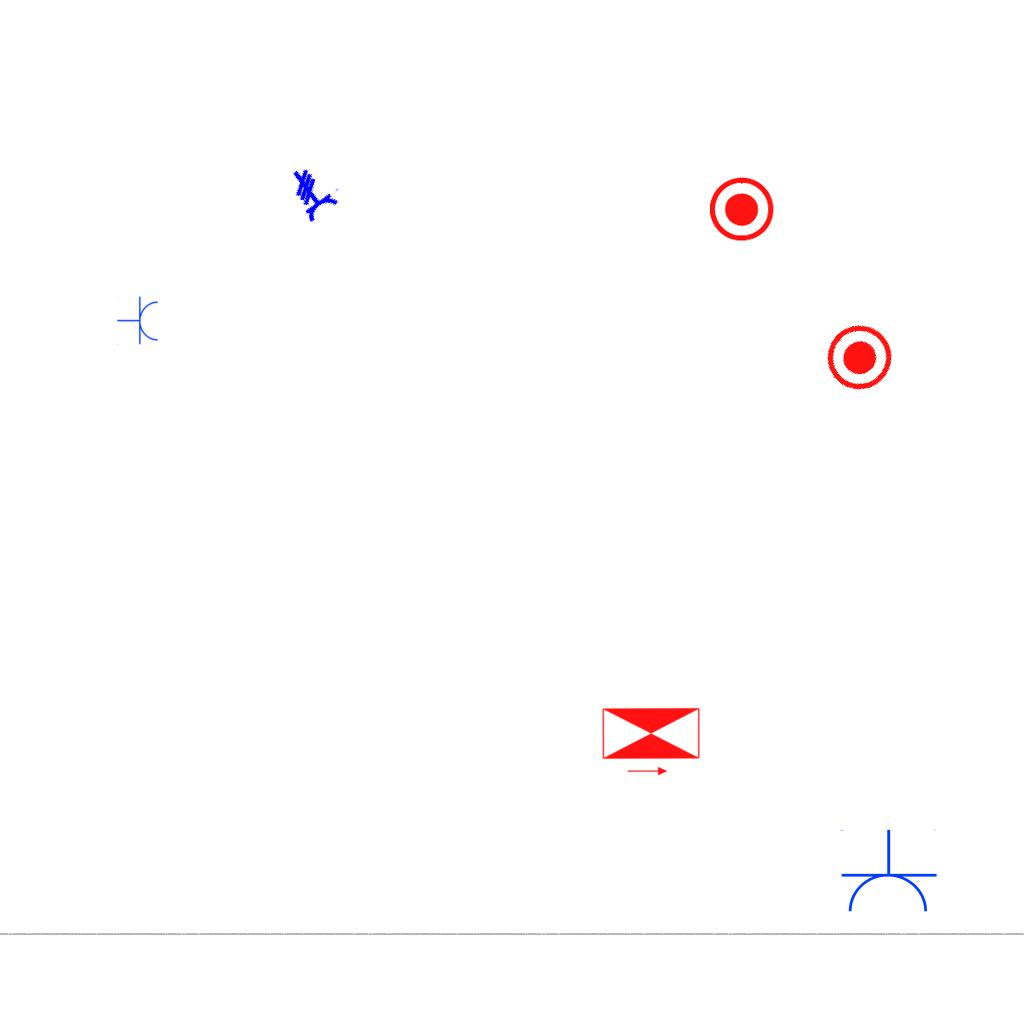CEE_Drehstrom_Steckdose_16_32_A: (280, 155, 347, 225)
Fluchtwegpiktogramm: (599, 705, 703, 778)
Schukosteckdose_einfach: (838, 829, 938, 916), (117, 296, 160, 346)
Taster: (814, 310, 908, 404), (710, 177, 776, 243)
